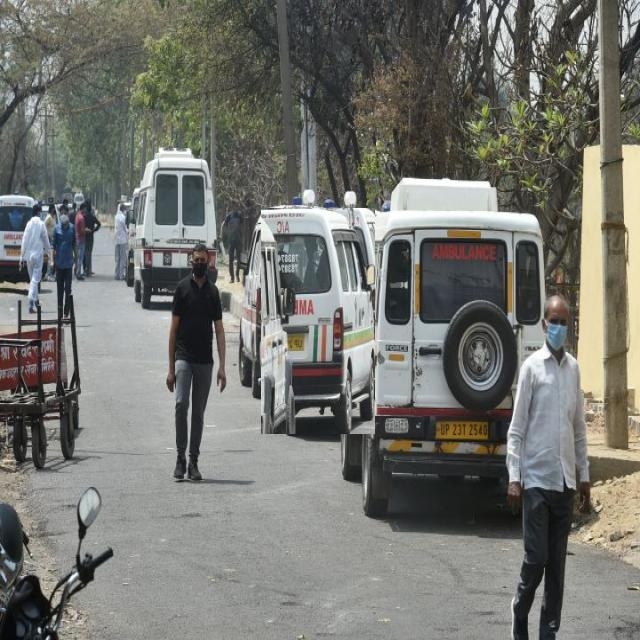autorickshaw: (341, 180, 545, 516), (261, 209, 375, 434), (128, 148, 218, 306), (239, 205, 304, 398)
